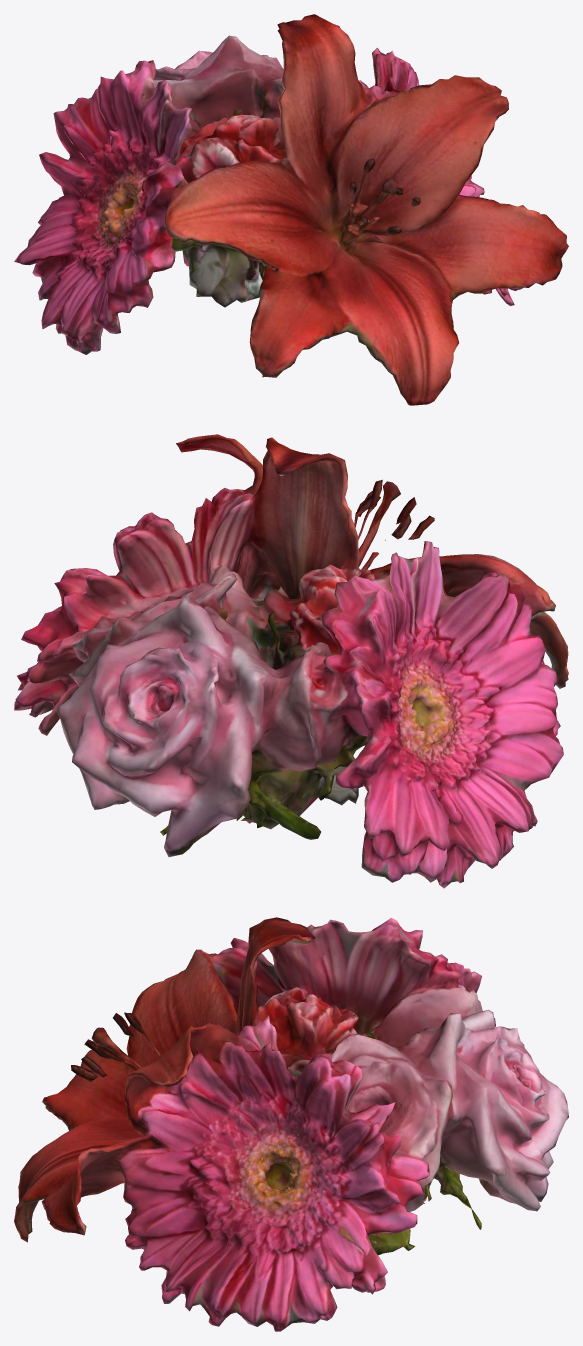
3 views of the same model, one above another, from view 1: azimuth 30°, elevation 25°; view 2: azimuth 150°, elevation 25°; view 3: azimuth 270°, elevation 25° (orthographic). The views are drawn at different scales.
Parts seen in each view (by area): view 1: g0; view 2: g0; view 3: g0.
Part boxes in pixels (x1,y1,x2,y2): g0: (14,14,568,405); g0: (14,434,568,888); g0: (14,917,568,1331).
Bounding box in the file's own units: 1.32 × 0.8626 × 1.37.
1 material, 1 textured.
